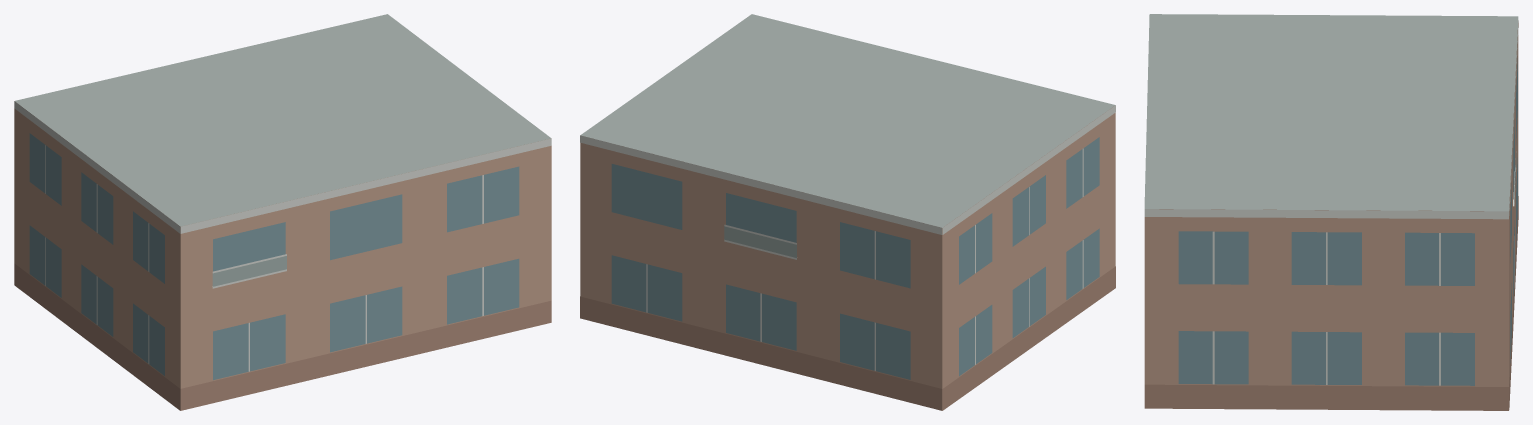
File: survey-upis-32875485.glb
3 views of the same model, side by side, from view 1: azimuth 30°, elevation 25°; view 2: azimuth 150°, elevation 25°; view 3: azimuth 270°, elevation 25° (orthographic). The views are drawn at different scales.
Visible parts, largest first — view 1: survey-upis-32875485.tmp; view 2: survey-upis-32875485.tmp; view 3: survey-upis-32875485.tmp.
Boxes of the visible parts, box(x1,y1,x2,y2) form: survey-upis-32875485.tmp: box(14, 14, 551, 410); survey-upis-32875485.tmp: box(580, 14, 1115, 410); survey-upis-32875485.tmp: box(1144, 14, 1518, 410).
Size of the model in its own units: 12.94 by 6.1 by 10.37.
